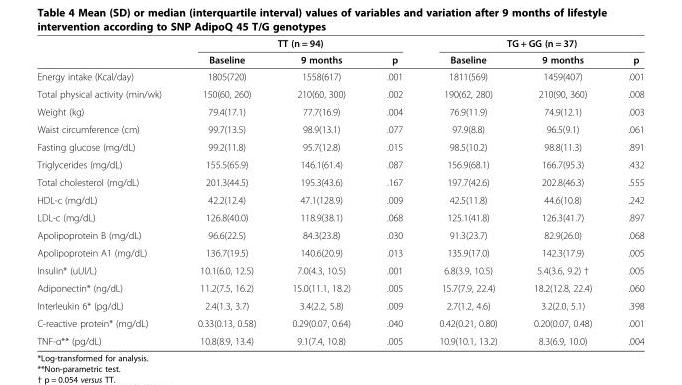table: (36, 37, 643, 346)
table column: (36, 37, 178, 346), (178, 37, 273, 346), (514, 37, 609, 346), (273, 37, 367, 346), (420, 37, 514, 346), (367, 37, 420, 346), (609, 37, 643, 346)
table column header: (36, 37, 643, 67)
table row: (36, 84, 643, 102), (36, 102, 643, 120), (36, 137, 643, 155), (36, 155, 643, 173), (36, 190, 643, 208), (36, 208, 643, 226), (36, 243, 643, 261), (36, 278, 643, 296), (36, 296, 643, 314), (36, 67, 643, 84), (36, 120, 643, 137), (36, 173, 643, 190), (36, 226, 643, 243), (36, 261, 643, 278), (36, 314, 643, 331), (36, 51, 643, 67), (36, 331, 643, 346), (36, 37, 643, 51)
table spanning cell: (178, 37, 420, 51), (420, 37, 643, 51)
